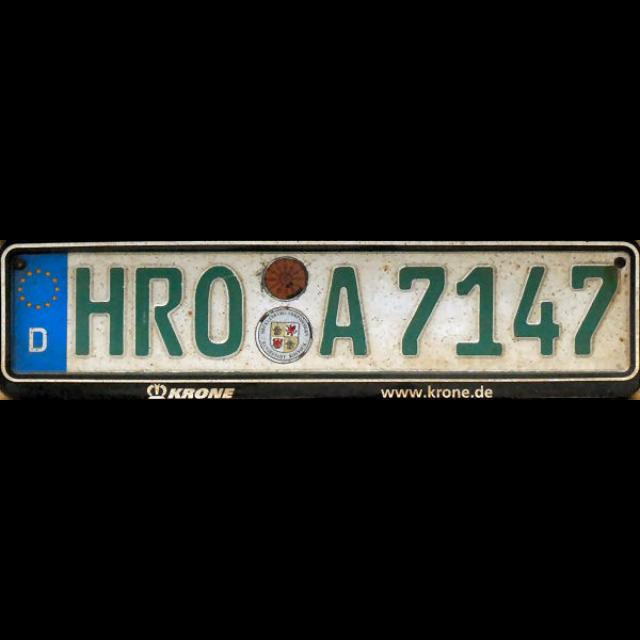d_license_plate: (4, 248, 634, 380)
